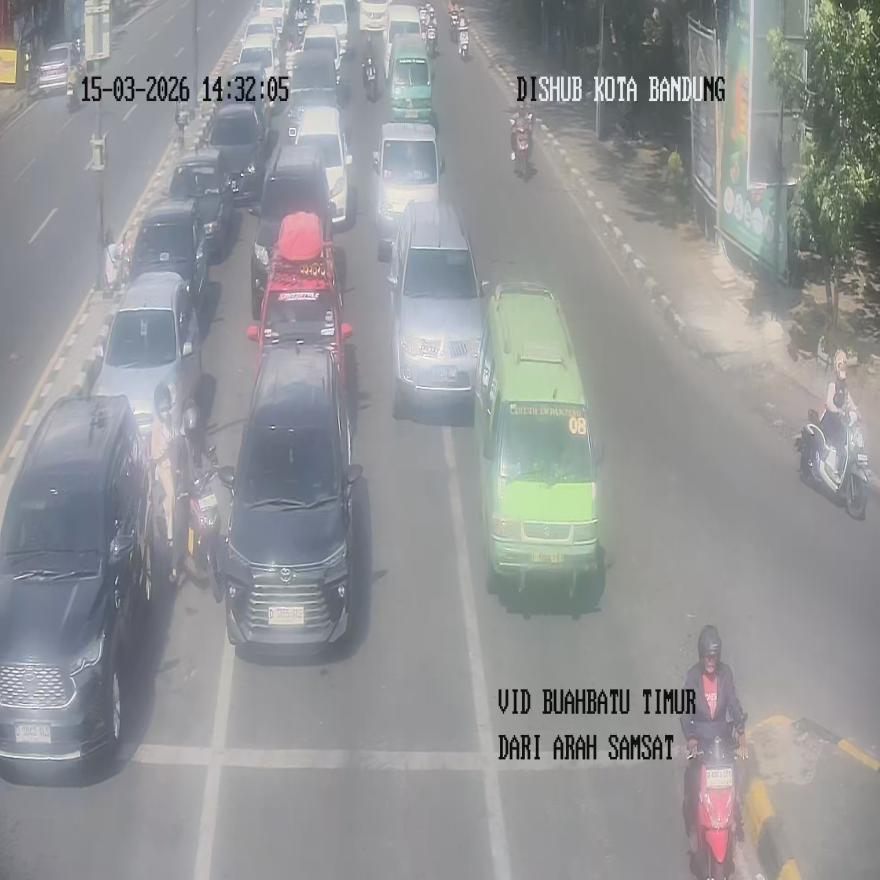Motor: (0, 396, 154, 763), (215, 338, 369, 654), (474, 282, 602, 597), (388, 199, 489, 408), (89, 271, 201, 448), (248, 212, 354, 392), (250, 142, 334, 317), (128, 197, 208, 324), (372, 121, 444, 255), (169, 150, 237, 264), (294, 105, 352, 227)
Truk: (684, 712, 746, 879), (796, 405, 869, 518), (104, 232, 127, 298), (511, 119, 533, 180), (449, 4, 469, 59), (362, 55, 377, 101)
